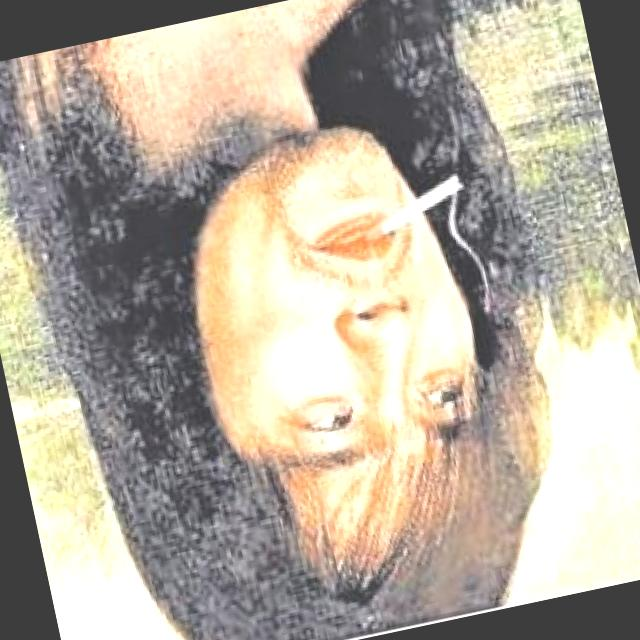smoke: (344, 170, 474, 247)
